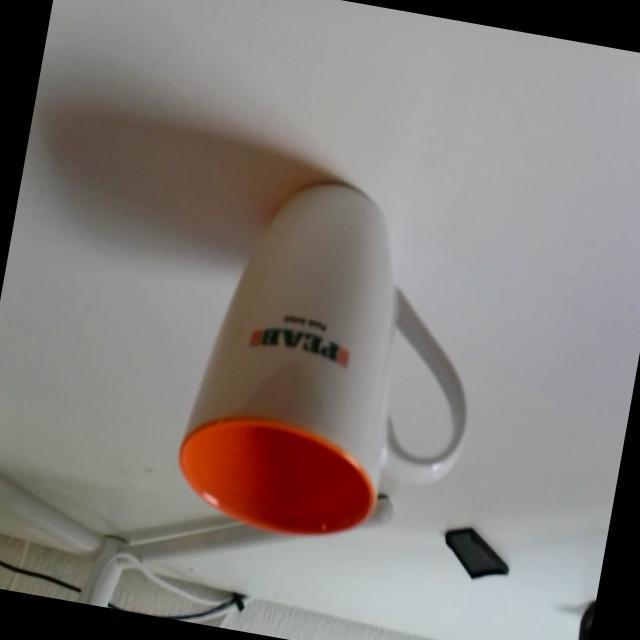cup: (160, 163, 508, 558)
